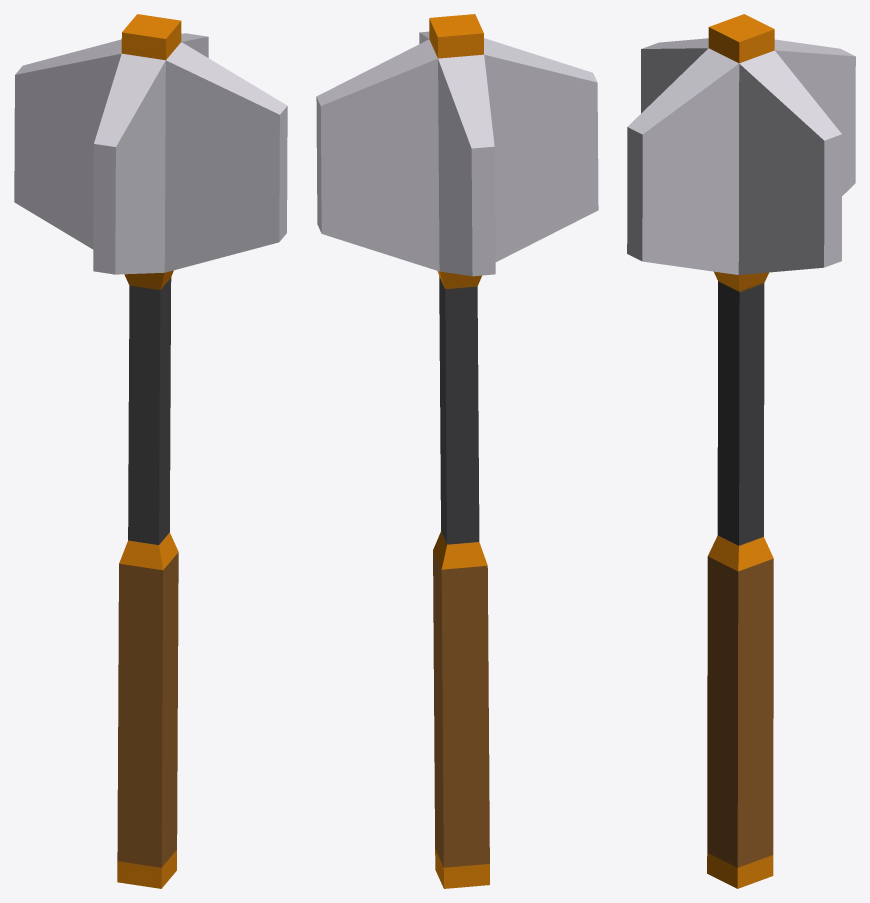
The model's file is steel-mace.obj.
3 views of the same model, side by side, from view 1: azimuth 30°, elevation 25°; view 2: azimuth 150°, elevation 25°; view 3: azimuth 270°, elevation 25° (orthographic).
Parts seen in each view (by area): view 1: Mesh_Mace; view 2: Mesh_Mace; view 3: Mesh_Mace.
Part boxes in pixels (<box>): Mesh_Mace: <box>14,14,287,888</box>; Mesh_Mace: <box>316,14,598,888</box>; Mesh_Mace: <box>627,14,855,888</box>.
Bounding box in the file's own units: 0.4112 × 1.68 × 0.41.
Materials: 4 (4 with a texture image).
